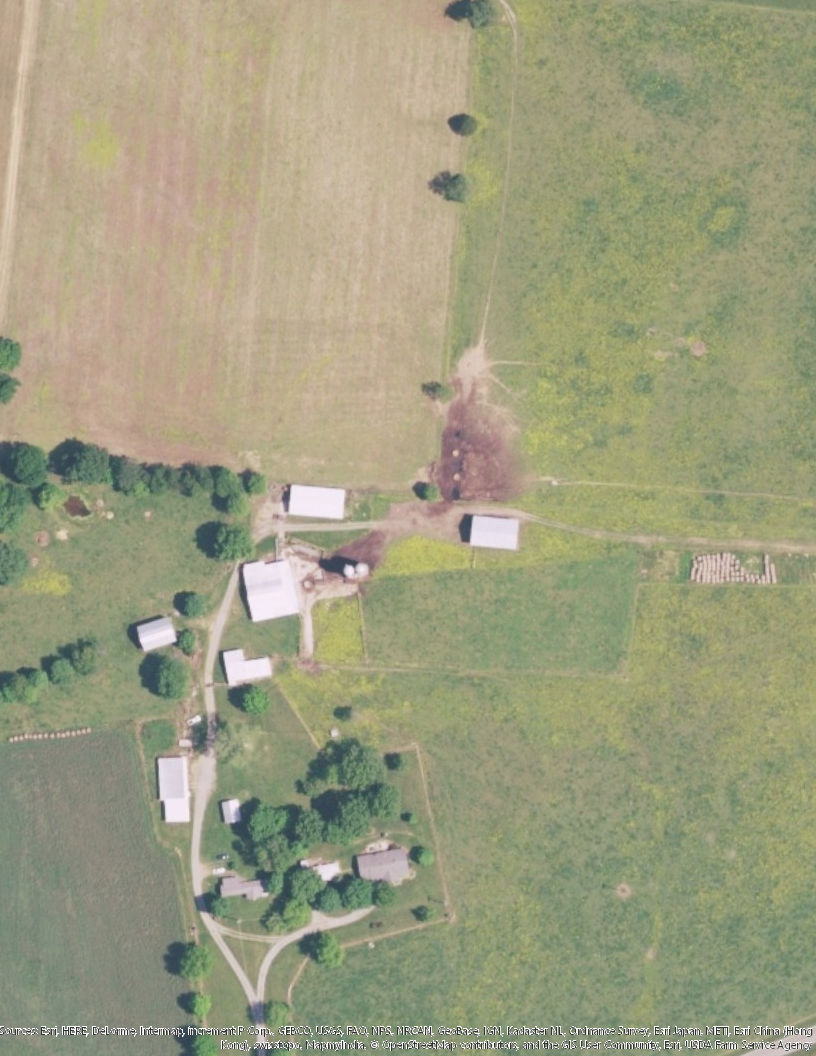cafo: (242, 559, 302, 622), (287, 485, 348, 524), (469, 516, 519, 550)
